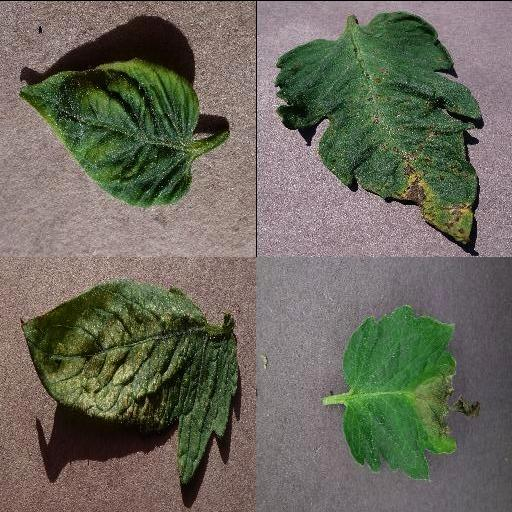Late Blight: (341, 302, 479, 482)
Septoria: (273, 10, 484, 248)
Spider Mites: (18, 278, 240, 483)
Yellow Leaf Curl Virus: (18, 56, 200, 206)
